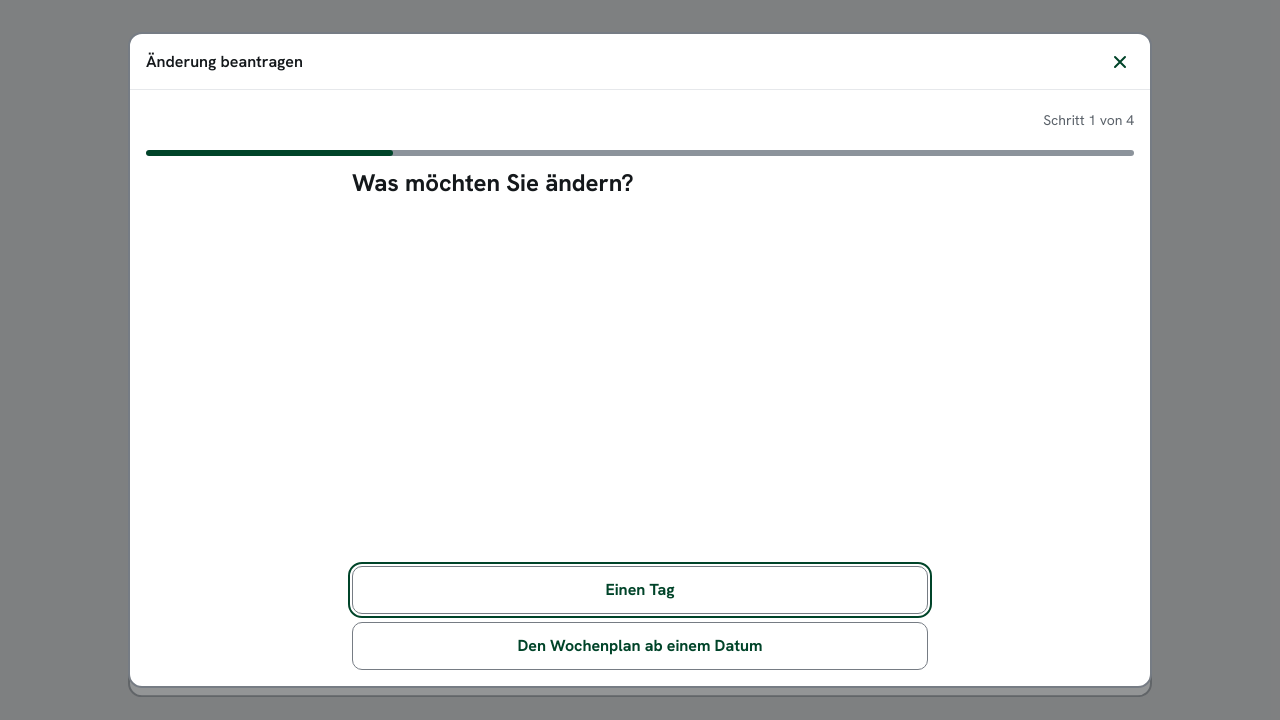
it: RequestWorkingTimePage › ein Fehler der Vorschau ist nie „keine Termine“ - mit „Erneut versuchen“ (Regel 8)
The width and height of the screenshot is (1280, 720).
Click the button "Einen Tag".
click(640, 590)  # box [352,566,928,614]
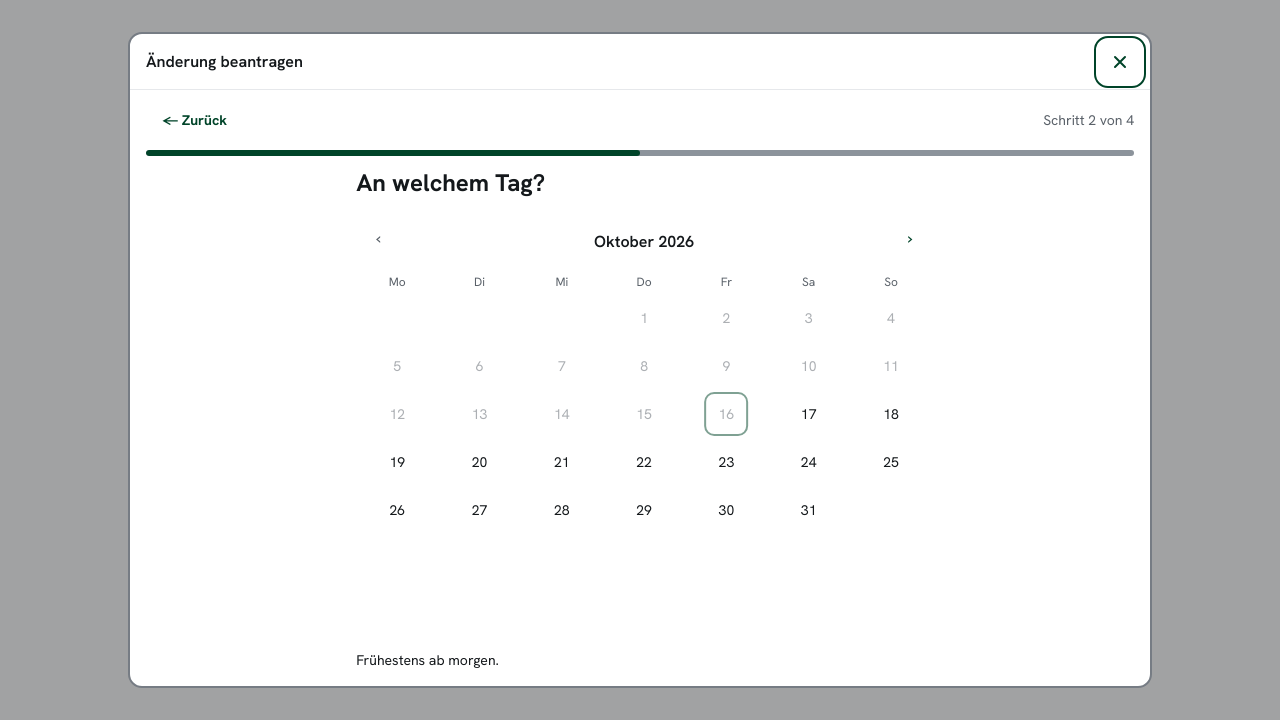
Click the button "20".
click(476, 462)  # box [454,440,498,484]
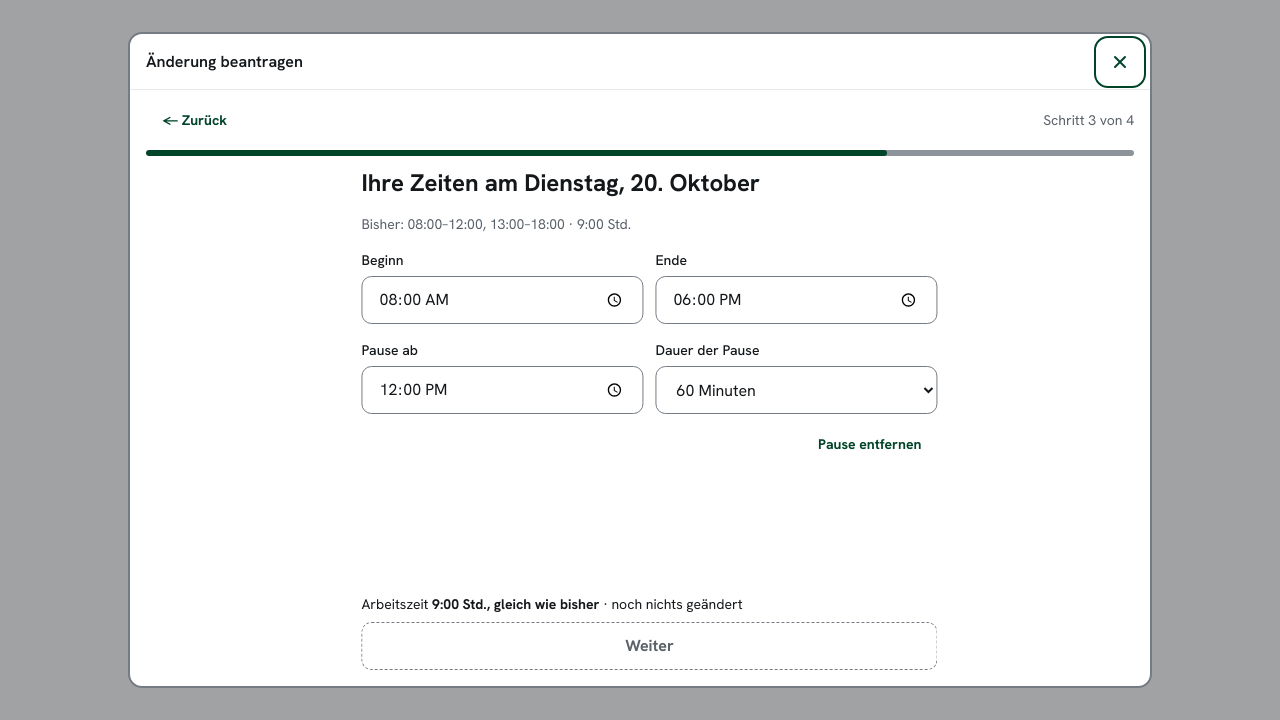
Expected: the text "Bisher: 08:00–12:00, 13:00–18:00 · 9:00 Std." is shown, [354,215,624,233]
Replace the text in the time field labelled "Beginn" with "07:00" at (496, 300), box [354,276,636,324]
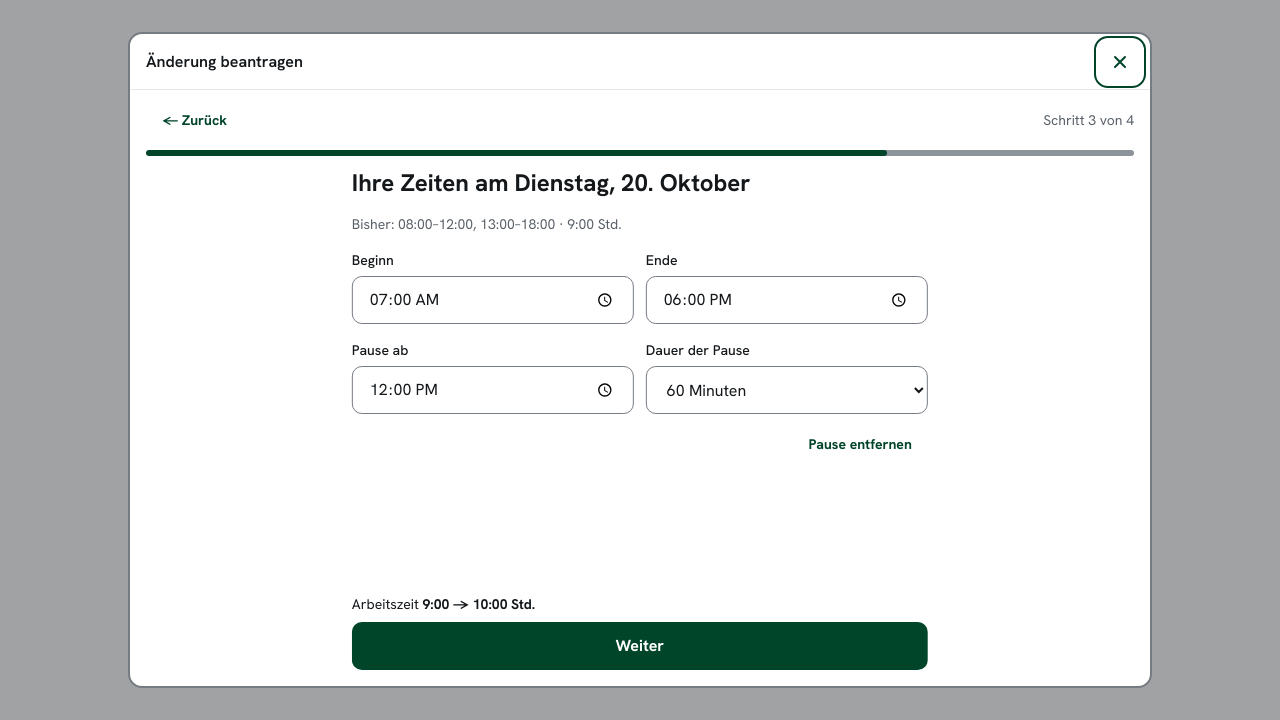
Replace the text in the time field labelled "Ende" with "17:00" at (787, 300), box [646,276,928,324]
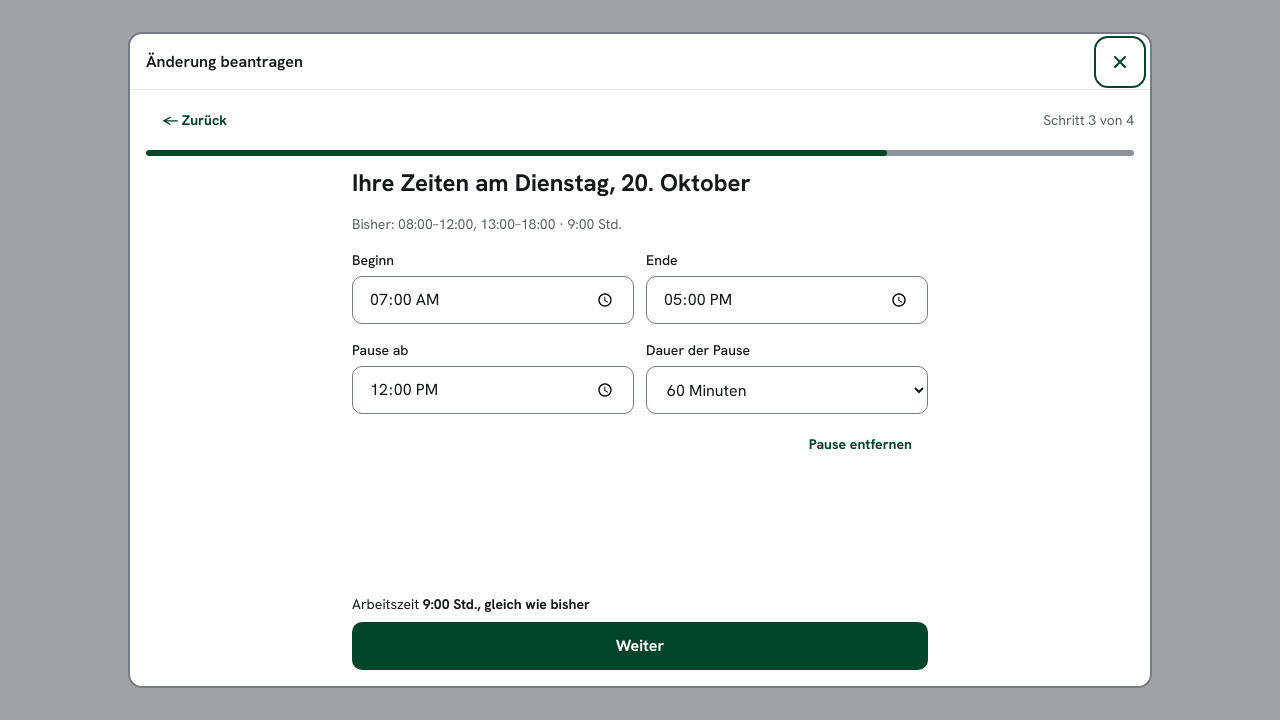
Click the button "Weiter".
click(640, 646)  # box [352,622,928,670]
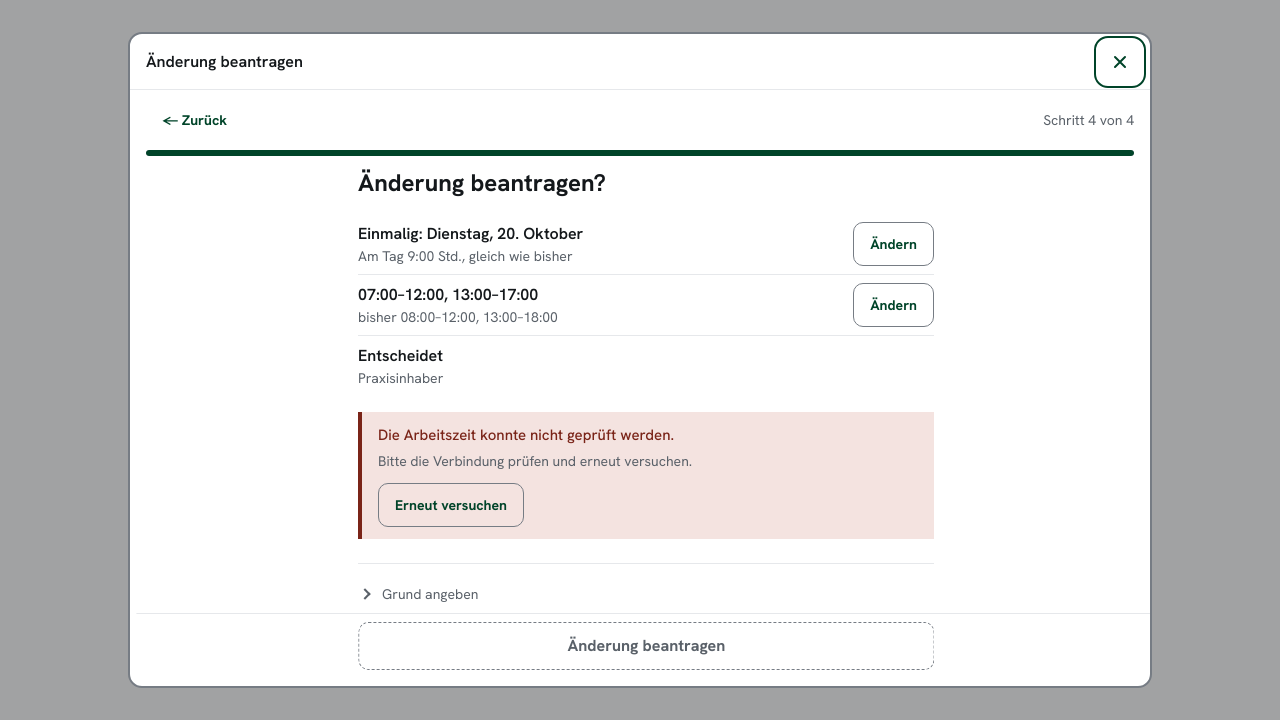
Expected: the text "Keine Termine" is not shown
Expected: the text "Die Arbeitszeit konnte nicht geprüft werden." is shown, [373,425,669,445]
Expected: the button "Änderung beantragen" is disabled, [353,622,929,670]
Click the button "Erneut versuchen".
click(446, 504)  # box [373,482,519,526]
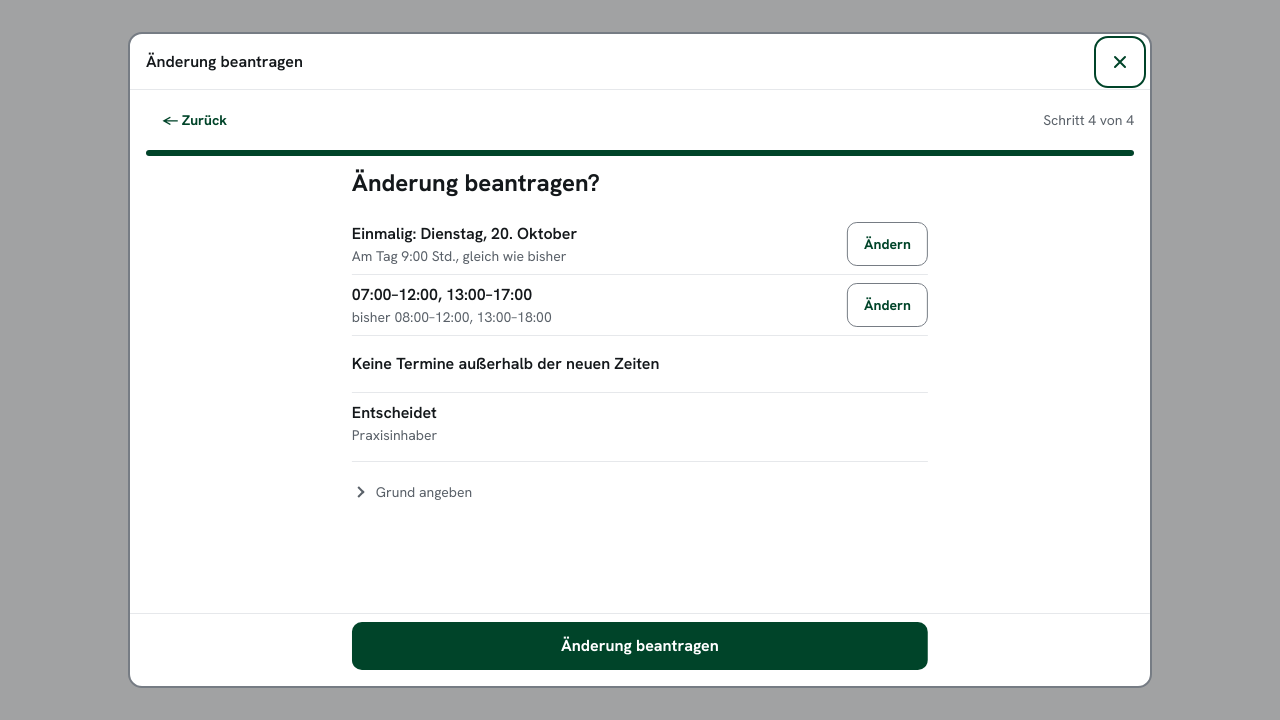
Expected: the text "Keine Termine außerhalb der neuen Zeiten" is shown, [352,353,660,374]
Expected: the button "Änderung beantragen" is enabled, [352,622,928,670]
